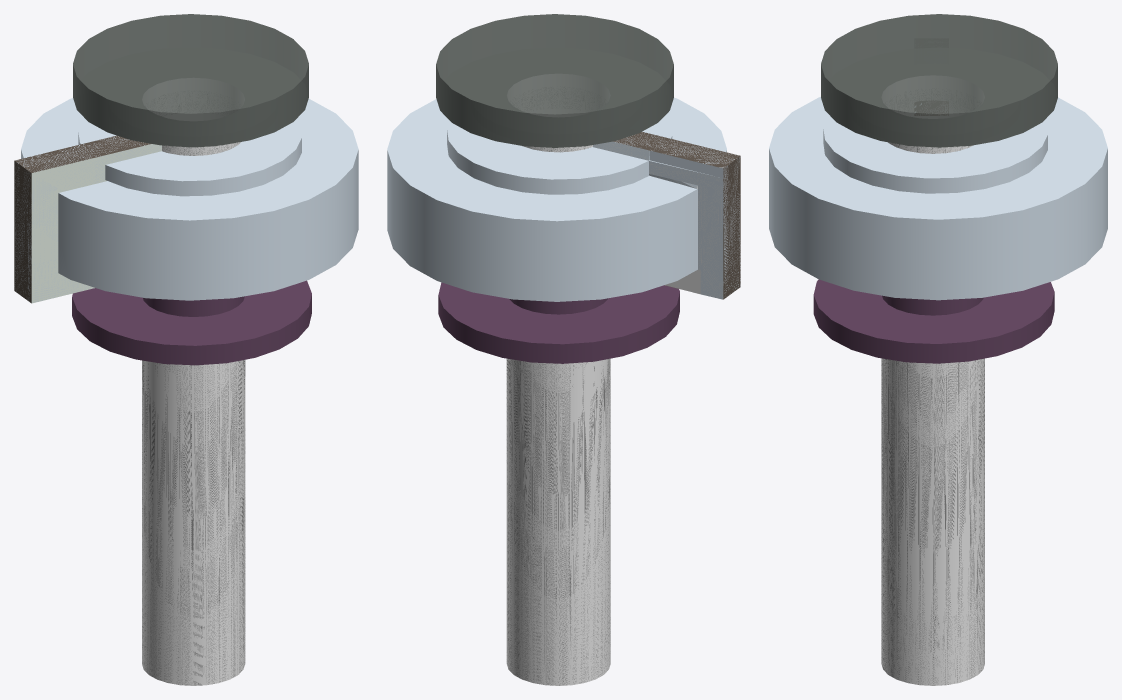
Rendered from trocarPurple.dae.
3 renders of one model, left to right at view 1: azimuth 30°, elevation 25°; view 2: azimuth 150°, elevation 25°; view 3: azimuth 270°, elevation 25°, orthographic.
Parts seen in each view (by area): view 1: SketchUp (×11); view 2: SketchUp (×10); view 3: SketchUp (×9).
Part boxes in pixels (box(x1,y1,x2,y2)): SketchUp (×11): box(14, 14, 358, 685); SketchUp (×10): box(387, 14, 740, 685); SketchUp (×9): box(769, 14, 1107, 685).
Size of the model in its own units: 84.46 by 78.03 by 152.
